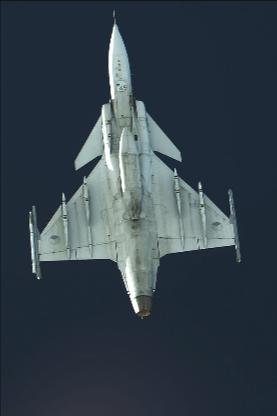JAS39: (28, 9, 239, 320)
